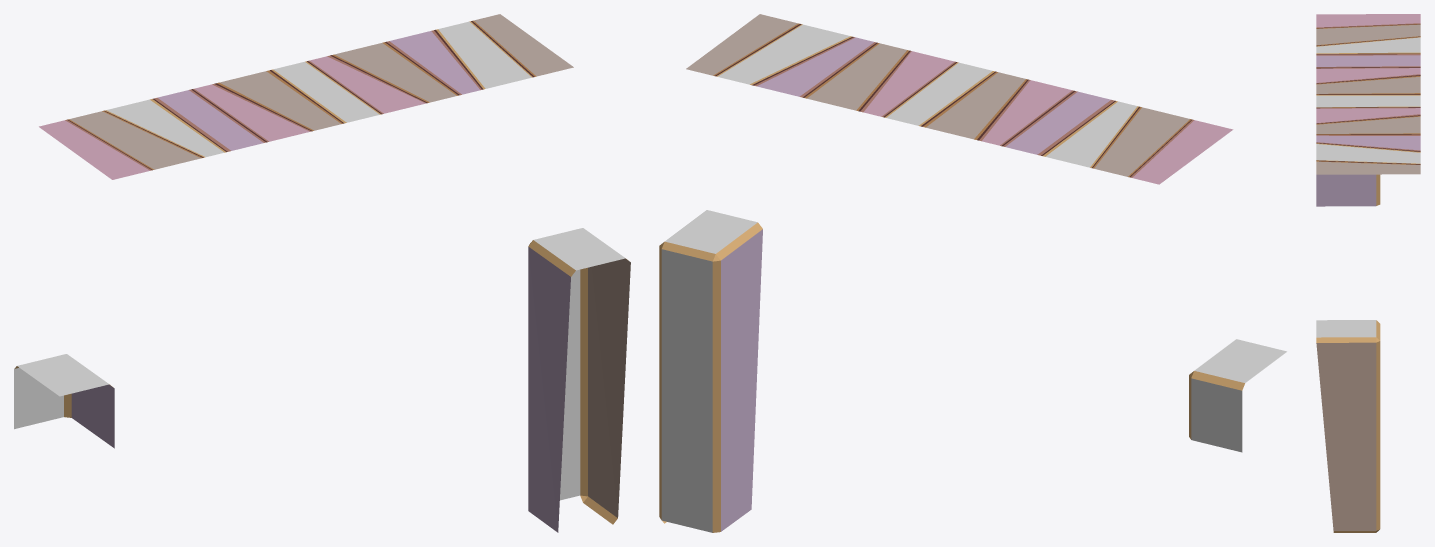
The model's file is FunHutWood.fbx.
3 views of the same model, side by side, from view 1: azimuth 30°, elevation 25°; view 2: azimuth 150°, elevation 25°; view 3: azimuth 270°, elevation 25° (orthographic). The views are drawn at different scales.
Visible parts, largest first — view 1: FunHutWood; view 2: FunHutWood; view 3: FunHutWood.
Part boxes in pixels (x1,y1,x2,y2): FunHutWood: (14,14,630,532); FunHutWood: (659,14,1286,532); FunHutWood: (1316,14,1420,532).
Bounding box in the file's own units: 278 × 222 × 61.66.
